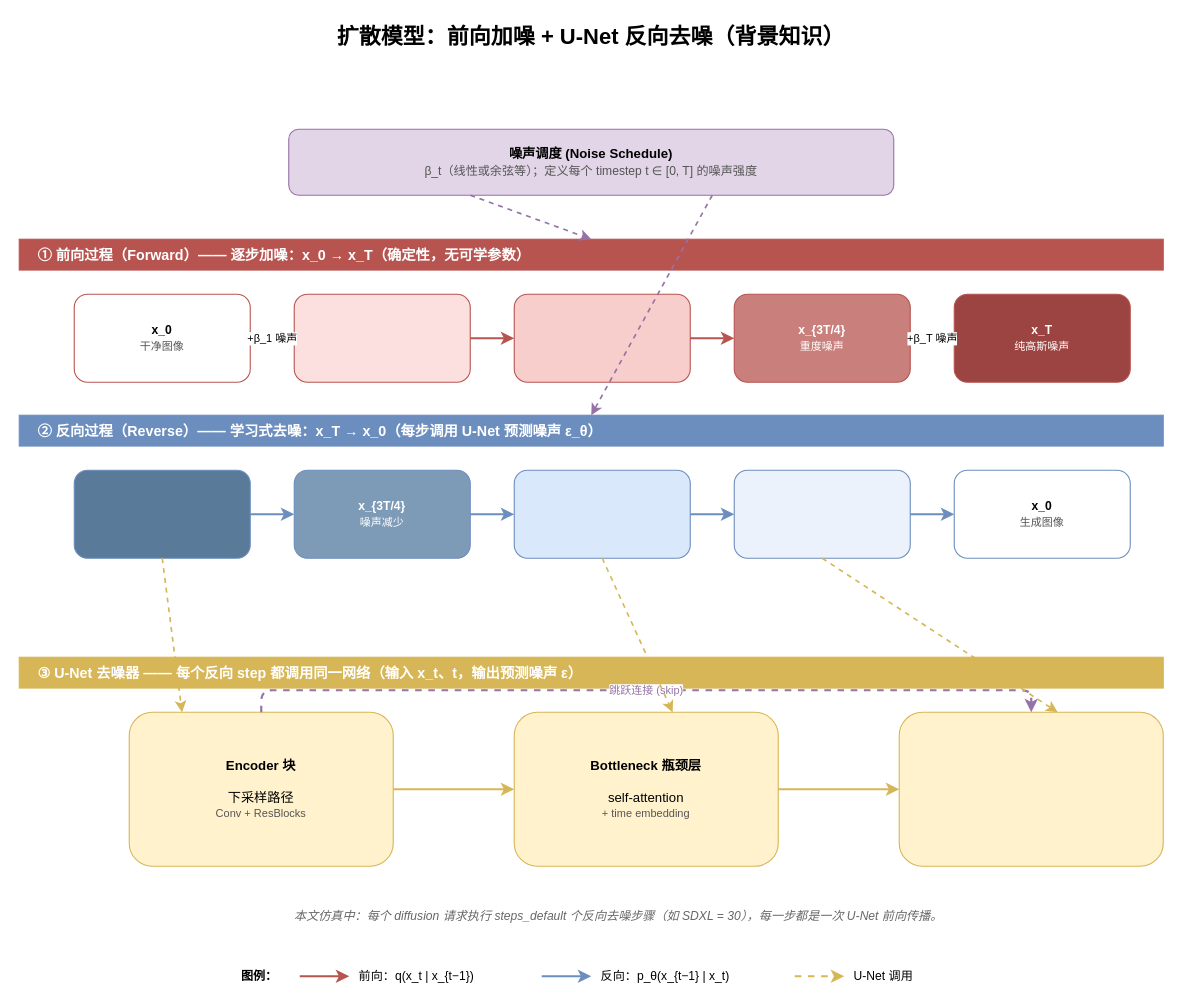
The diagram is 1183 pixels wide and 1005 high, and some of its shapes have lost their labels. Each missing label, with the box of its shape:
Decoder 块 上采样路径 ConvTranspose + ResBlocks: (898, 711, 1163, 866)
x_T 采样自高斯: (73, 469, 250, 558)
x_{T/2} 中度噪声: (513, 293, 690, 382)
x_{T/2} 更清晰: (513, 469, 690, 558)
x_{T/4} 接近干净: (733, 469, 910, 558)
x_{T/4} 轻度噪声: (293, 293, 470, 382)
